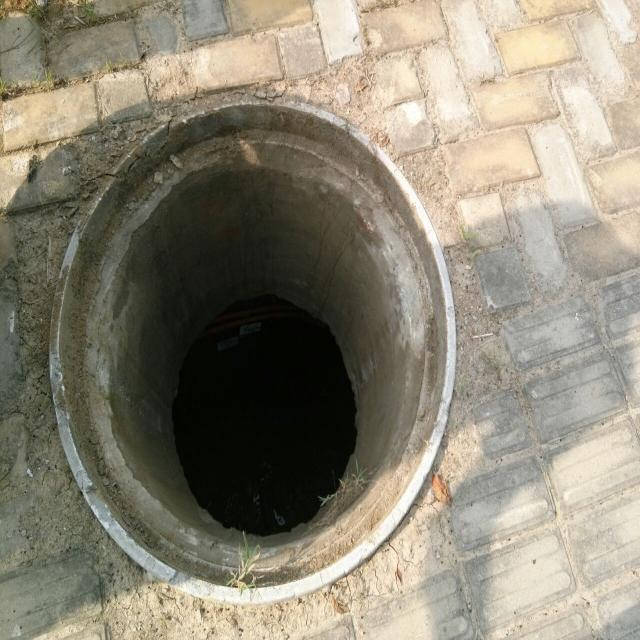Faulty: (50, 97, 456, 602)
